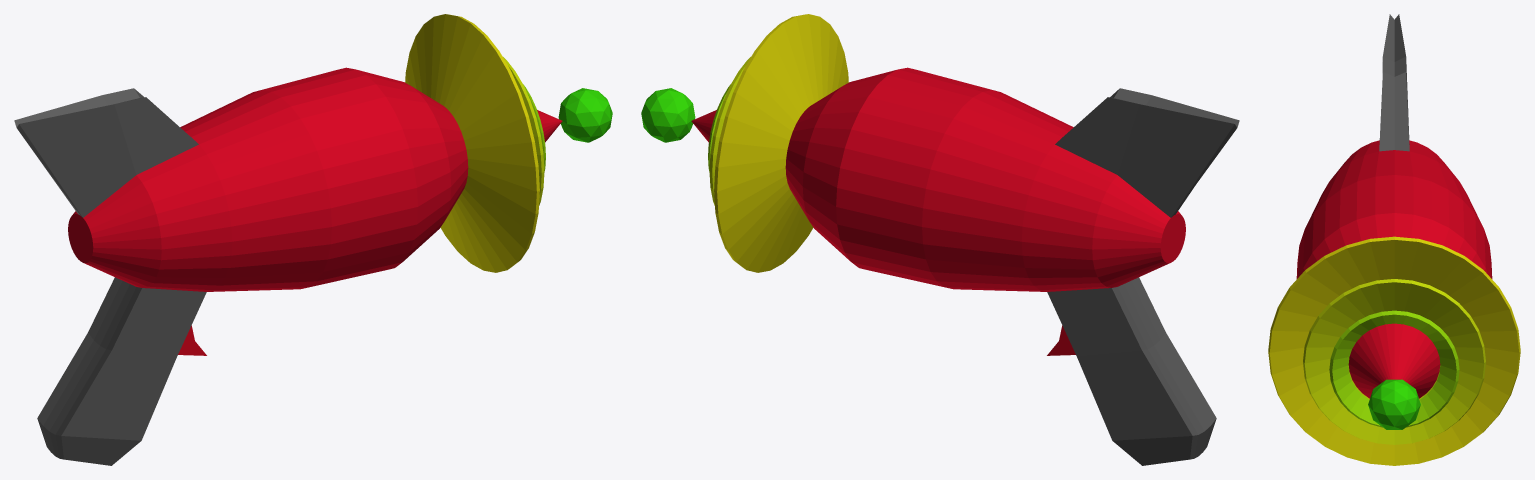
Rendered from RayGun.fbx.
3 renders of one model, left to right at view 1: azimuth 30°, elevation 25°; view 2: azimuth 150°, elevation 25°; view 3: azimuth 270°, elevation 25°, orthographic. The views are drawn at different scales.
Visible parts, largest first — view 1: Frame, BigDisk, Handle, IronSight, Ball, MidDisk; view 2: Frame, BigDisk, Handle, IronSight, Ball, MidDisk; view 3: BigDisk, Frame, MidDisk, SmallDisk, IronSight, Ball.
Part boxes in pixels (x1,y1,x2,y2): Frame: (68, 67, 562, 291); BigDisk: (405, 14, 539, 272); Handle: (37, 277, 206, 465); IronSight: (14, 88, 198, 217); Ball: (558, 88, 612, 142); MidDisk: (503, 57, 544, 205); Frame: (691, 67, 1185, 291); BigDisk: (714, 14, 848, 272); Handle: (1047, 277, 1216, 465); IronSight: (1055, 88, 1239, 217); Ball: (641, 88, 695, 142); MidDisk: (709, 57, 750, 205); BigDisk: (1268, 236, 1520, 465); Frame: (1296, 140, 1492, 398); MidDisk: (1303, 279, 1485, 444); SmallDisk: (1329, 310, 1459, 427); IronSight: (1379, 14, 1409, 151); Ball: (1368, 379, 1420, 429).
Size of the model in its own units: 891 by 518 by 345.
